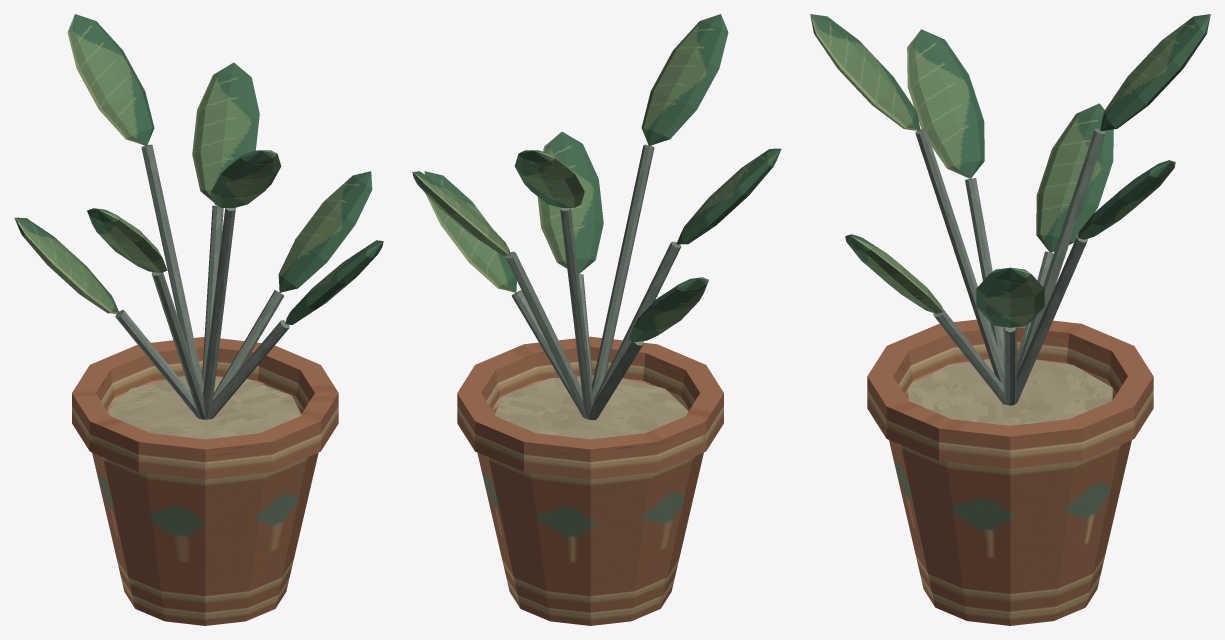
The model's file is MD_35_PottedPlant.fbx.
3 views of the same model, side by side, from view 1: azimuth 30°, elevation 25°; view 2: azimuth 150°, elevation 25°; view 3: azimuth 270°, elevation 25° (orthographic). The views are drawn at different scales.
Parts seen in each view (by area): view 1: MD_35_PottedPlant_pot, MD_35_PottedPlant_soil, MD_35_PottedPlant_broad_leaf.001, MD_35_PottedPlant_broad_leaf.002, MD_35_PottedPlant_broad_leaf, MD_35_PottedPlant_broad_leaf.003, MD_35_PottedPlant_broad_leaf.005, MD_35_PottedPlant_plant_stem.002, MD_35_PottedPlant_broad_leaf.004, MD_35_PottedPlant_plant_stem.005, MD_35_PottedPlant_broad_leaf.006, MD_35_PottedPlant_plant_stem.004 (+4 smaller); view 2: MD_35_PottedPlant_pot, MD_35_PottedPlant_soil, MD_35_PottedPlant_broad_leaf.005, MD_35_PottedPlant_broad_leaf.006, MD_35_PottedPlant_plant_stem.005, MD_35_PottedPlant_broad_leaf.004, MD_35_PottedPlant_broad_leaf, MD_35_PottedPlant_broad_leaf.002, MD_35_PottedPlant_broad_leaf.003, MD_35_PottedPlant_plant_stem.002, MD_35_PottedPlant_broad_leaf.001, MD_35_PottedPlant_plant_stem.001 (+3 smaller); view 3: MD_35_PottedPlant_pot, MD_35_PottedPlant_soil, MD_35_PottedPlant_broad_leaf.004, MD_35_PottedPlant_broad_leaf.003, MD_35_PottedPlant_broad_leaf.002, MD_35_PottedPlant_broad_leaf.005, MD_35_PottedPlant_broad_leaf, MD_35_PottedPlant_plant_stem.005, MD_35_PottedPlant_plant_stem.002, MD_35_PottedPlant_broad_leaf.001, MD_35_PottedPlant_broad_leaf.006, MD_35_PottedPlant_plant_stem.001 (+3 smaller).
Part boxes in pixels (x1,y1,x2,y2): MD_35_PottedPlant_pot: (72,337,338,625); MD_35_PottedPlant_soil: (107,375,301,439); MD_35_PottedPlant_broad_leaf.001: (192,62,259,202); MD_35_PottedPlant_broad_leaf.002: (67,14,154,145); MD_35_PottedPlant_broad_leaf: (278,171,372,292); MD_35_PottedPlant_broad_leaf.003: (14,217,119,313); MD_35_PottedPlant_broad_leaf.005: (211,150,281,207); MD_35_PottedPlant_plant_stem.002: (141,144,203,392); MD_35_PottedPlant_broad_leaf.004: (87,208,167,272); MD_35_PottedPlant_plant_stem.005: (203,207,235,419); MD_35_PottedPlant_broad_leaf.006: (285,240,383,324); MD_35_PottedPlant_plant_stem.004: (151,272,206,419); MD_35_PottedPlant_pot: (457,336,723,625); MD_35_PottedPlant_soil: (494,376,688,439); MD_35_PottedPlant_broad_leaf.005: (641,14,728,145); MD_35_PottedPlant_broad_leaf.006: (537,131,603,273); MD_35_PottedPlant_plant_stem.005: (592,144,654,399); MD_35_PottedPlant_broad_leaf.004: (676,148,781,244); MD_35_PottedPlant_broad_leaf: (424,171,516,292); MD_35_PottedPlant_broad_leaf.002: (514,150,584,207); MD_35_PottedPlant_broad_leaf.003: (628,277,708,342); MD_35_PottedPlant_plant_stem.002: (560,207,593,419); MD_35_PottedPlant_broad_leaf.001: (412,171,510,255); MD_35_PottedPlant_plant_stem.001: (506,251,587,419); MD_35_PottedPlant_pot: (867,319,1153,625); MD_35_PottedPlant_soil: (908,359,1112,425); MD_35_PottedPlant_broad_leaf.004: (907,29,984,178); MD_35_PottedPlant_broad_leaf.003: (1036,103,1113,252); MD_35_PottedPlant_broad_leaf.002: (1100,14,1210,131); MD_35_PottedPlant_broad_leaf.005: (810,14,920,131); MD_35_PottedPlant_broad_leaf: (976,267,1044,327); MD_35_PottedPlant_plant_stem.005: (915,128,1004,385); MD_35_PottedPlant_plant_stem.002: (1016,128,1105,374); MD_35_PottedPlant_broad_leaf.001: (1078,160,1175,239); MD_35_PottedPlant_broad_leaf.006: (845,234,942,313); MD_35_PottedPlant_plant_stem.001: (1015,235,1087,403).
Size of the model in its own units: 0.7644 by 1.2 by 0.7841.
Materials: 4 (4 with a texture image).
